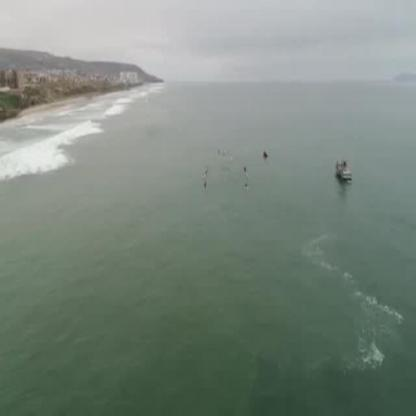Boat: (331, 156, 355, 187)
